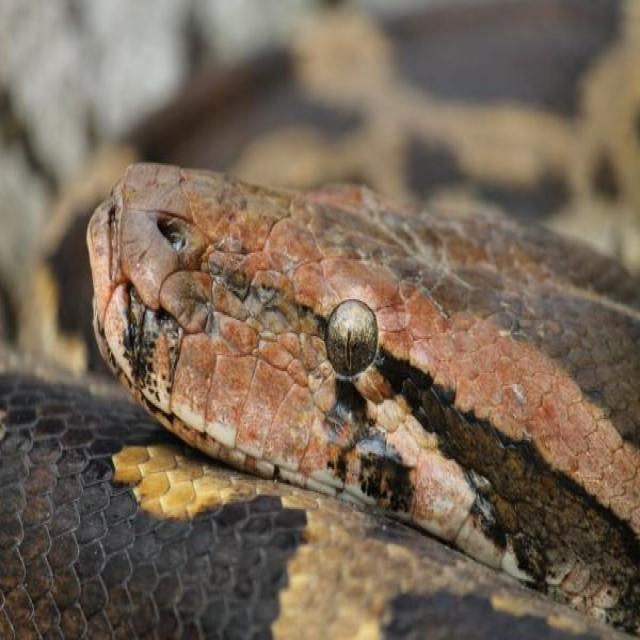Snake: (0, 156, 639, 638)
